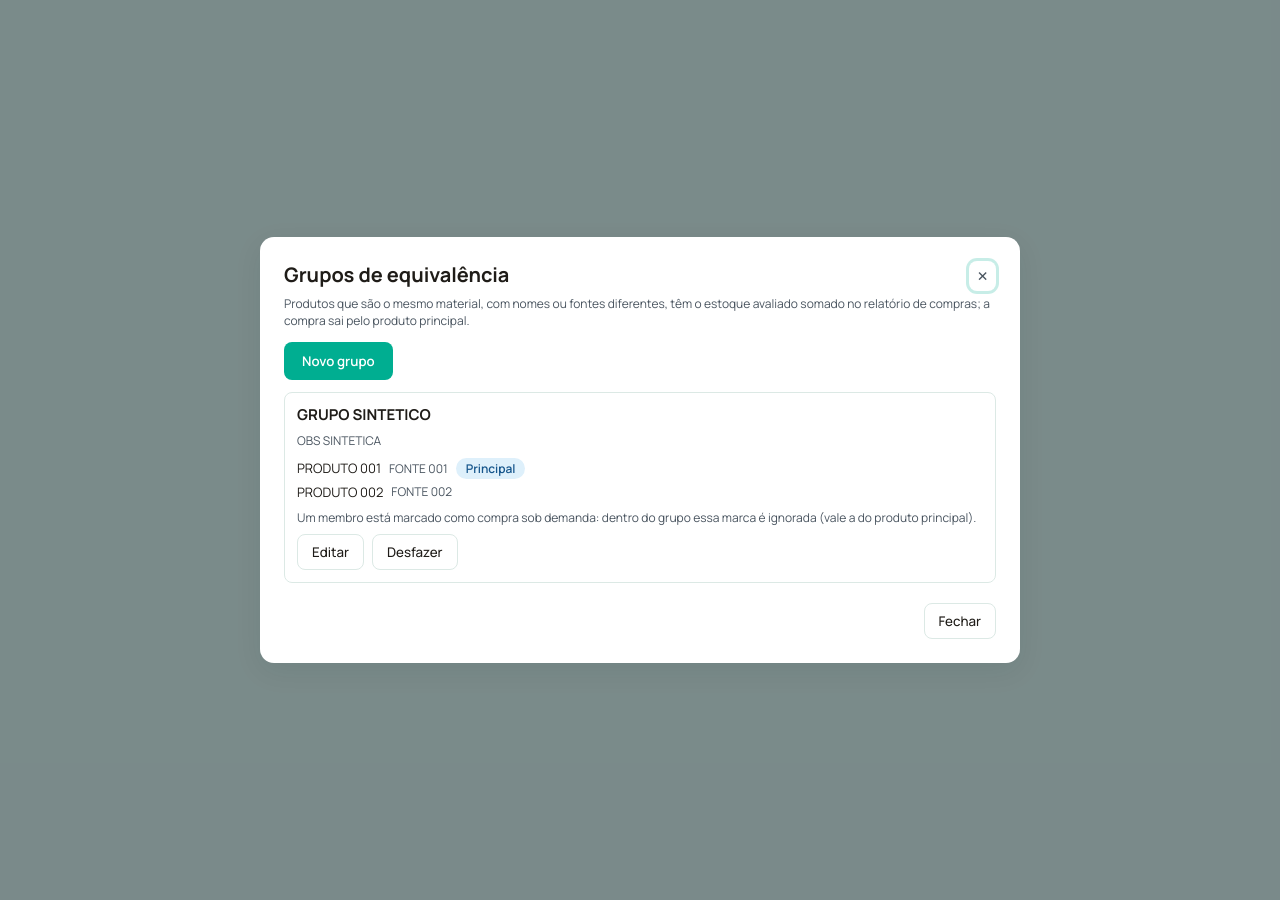
Test: ForecastGruposModal - criar › formulario vazio: erros em portugues com aria-invalid e foco no primeiro campo invalido
Click the button "Novo grupo".
click(338, 361)  # box [284, 342, 393, 380]
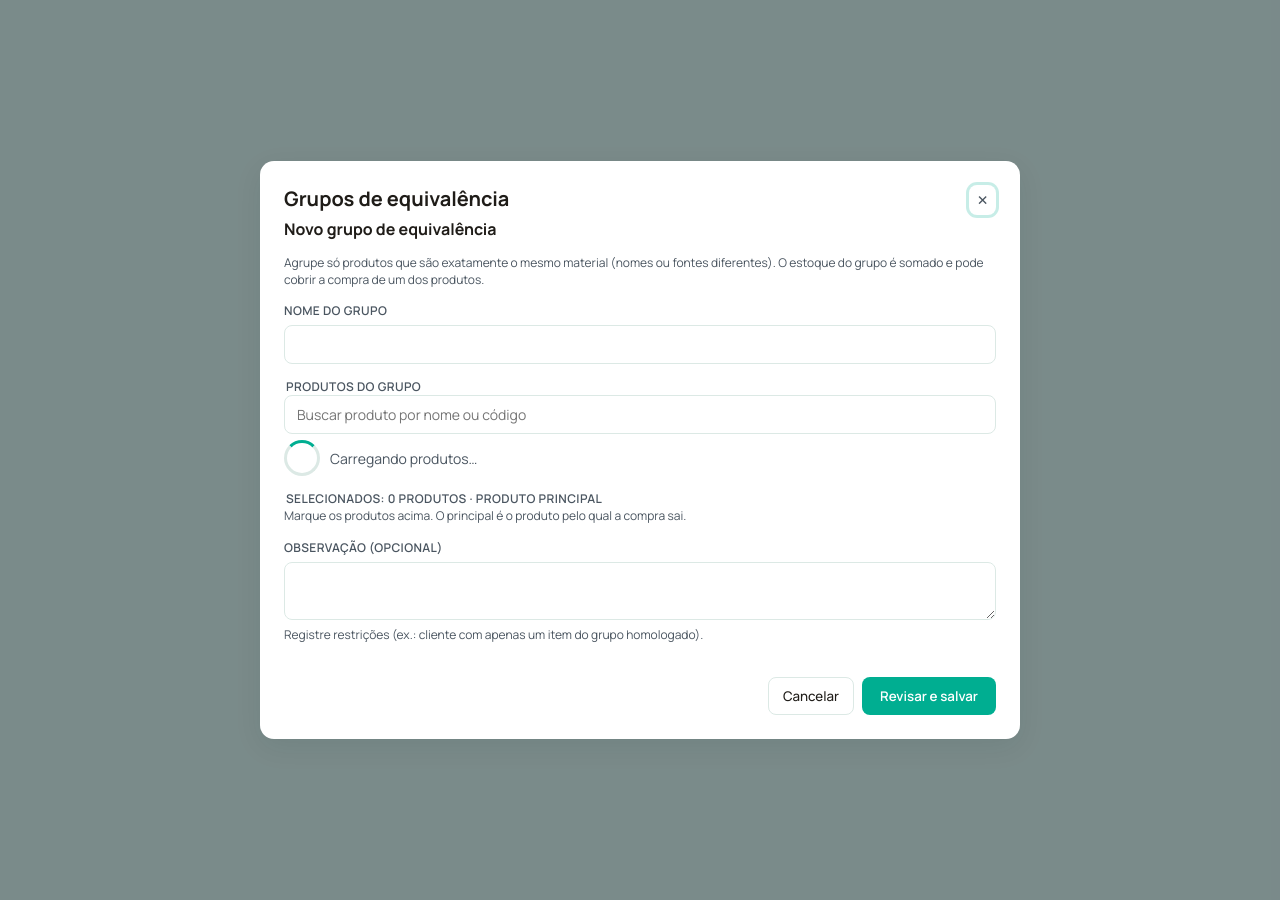
Click the button "Revisar e salvar".
click(929, 696)  # box [862, 677, 996, 715]
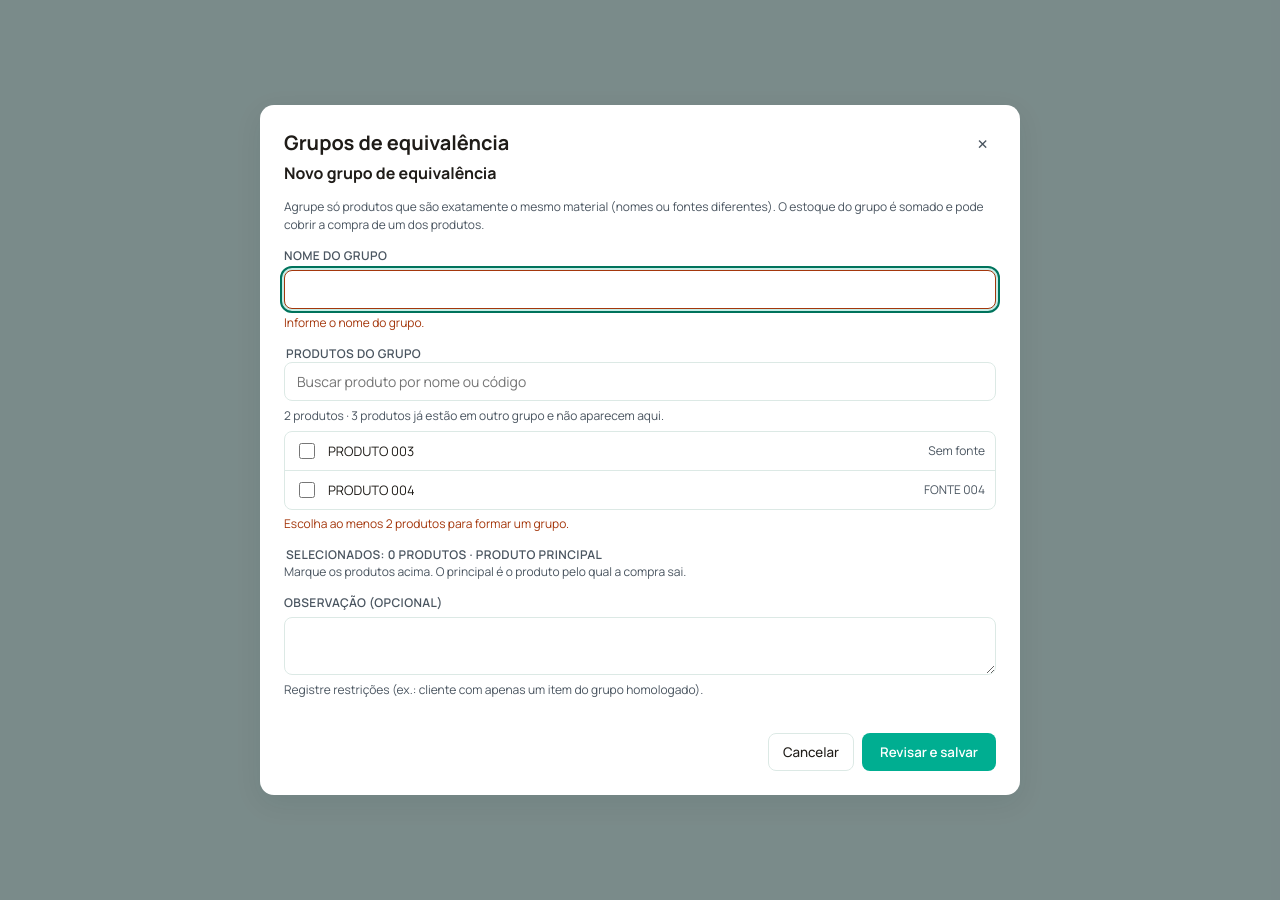
Expected: the text "Informe o nome do grupo." is shown, [284, 314, 424, 331]
Expected: the text "Escolha ao menos 2 produtos para formar um grupo." is shown, [284, 515, 569, 532]
